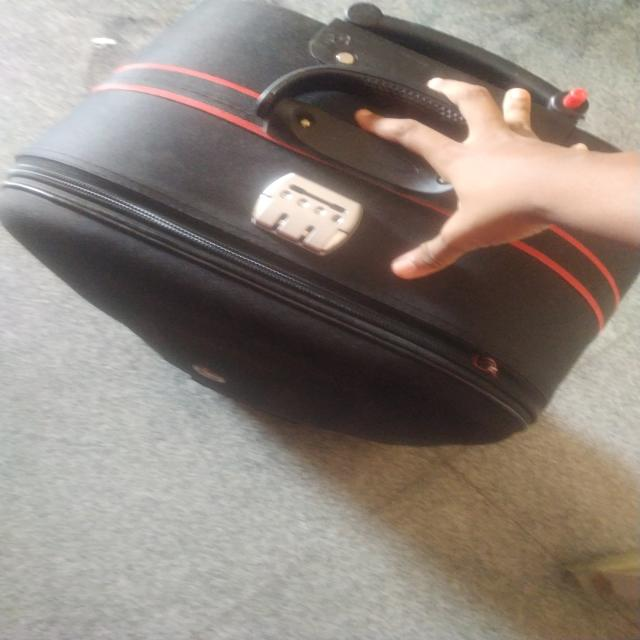suitcaserotation: (0, 0, 640, 451)
